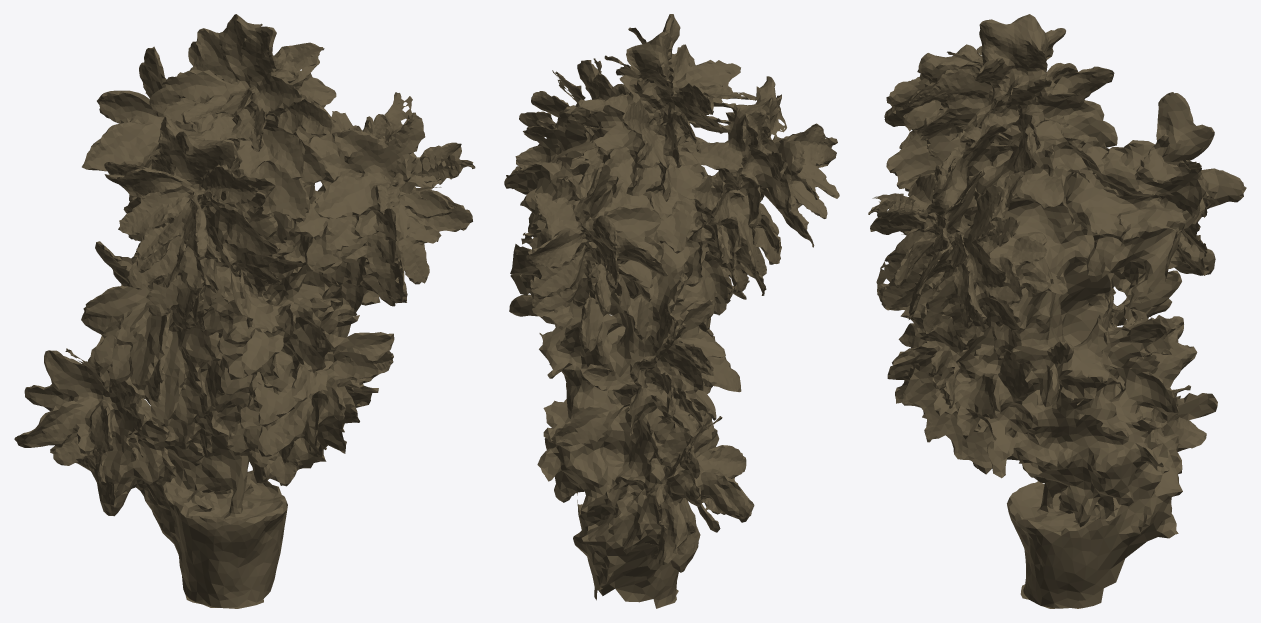
File: PLANTE.fbx
The picture shows the model from 3 angles, left to right: view 1: azimuth 30°, elevation 25°; view 2: azimuth 150°, elevation 25°; view 3: azimuth 270°, elevation 25°; orthographic projection. The views are drawn at different scales.
Visible parts, largest first — view 1: PLANTE; view 2: PLANTE; view 3: PLANTE.
Part boxes in pixels (x1,y1,x2,y2): PLANTE: [14, 14, 475, 608]; PLANTE: [504, 14, 839, 608]; PLANTE: [868, 14, 1246, 608].
Bounding box in the file's own units: 149 × 242 × 145.
